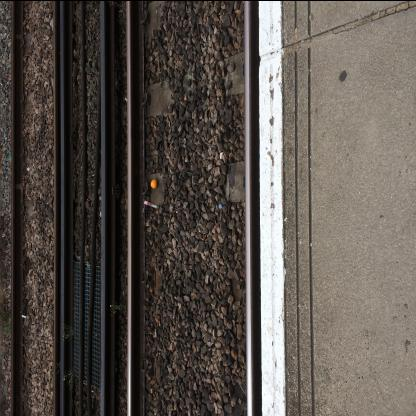plastik: (23, 306, 30, 326), (144, 199, 158, 208), (218, 203, 222, 209)
